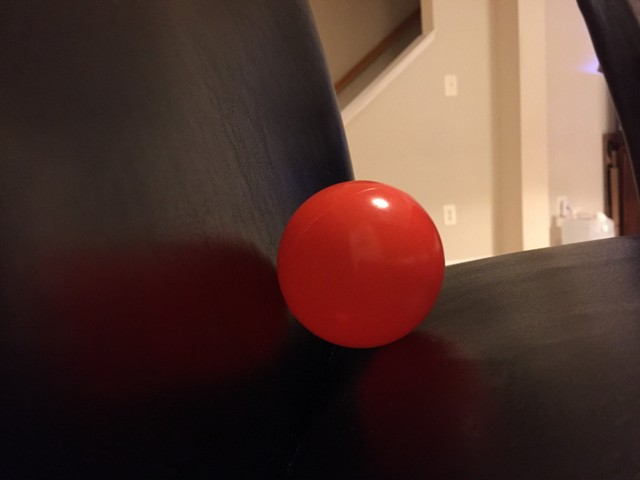Ball: (274, 180, 444, 345)
